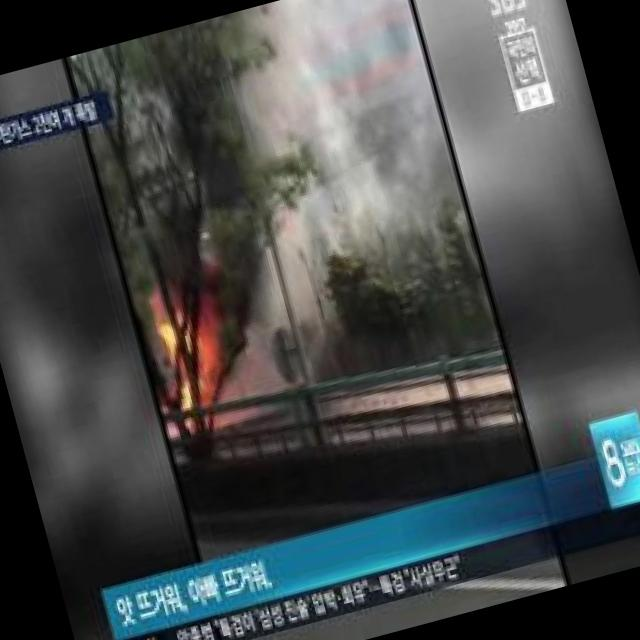Fire: (149, 294, 234, 440)
Smoke: (142, 0, 441, 399)
